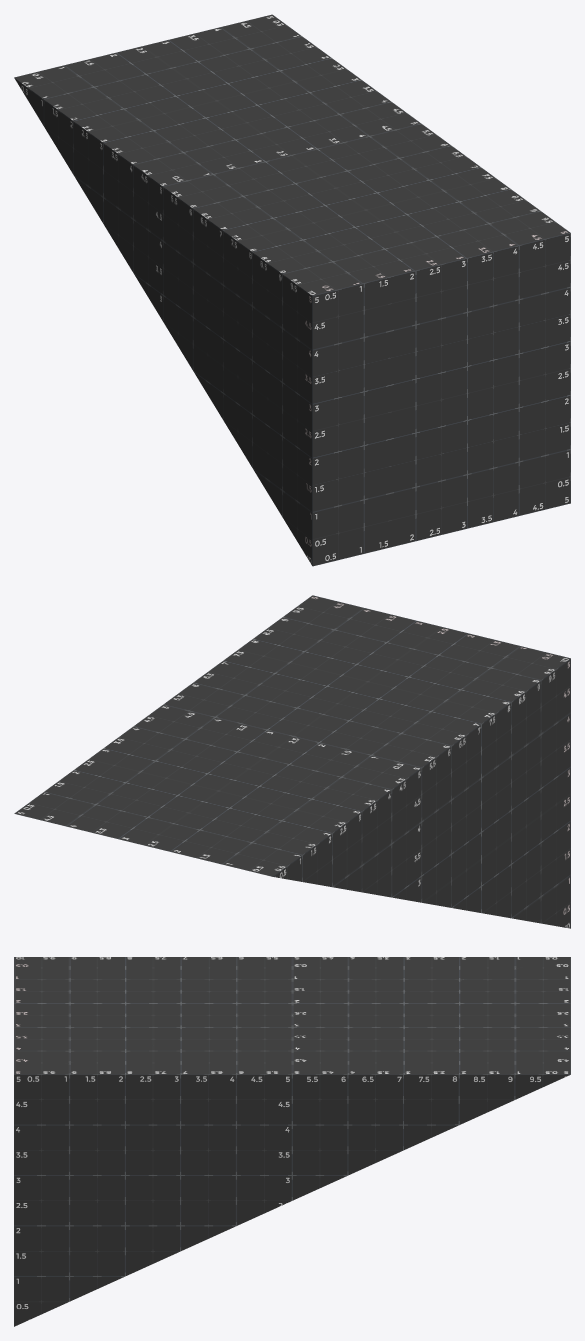
The model's file is WedgeCeiling_10.fbx.
3 renders of one model, top to bottom at view 1: azimuth 30°, elevation 25°; view 2: azimuth 150°, elevation 25°; view 3: azimuth 270°, elevation 25°, orthographic. The views are drawn at different scales.
Visible parts, largest first — view 1: WedgeCeiling_10; view 2: WedgeCeiling_10; view 3: WedgeCeiling_10.
Part boxes in pixels (x1,y1,x2,y2): WedgeCeiling_10: [14, 14, 570, 566]; WedgeCeiling_10: [14, 595, 570, 928]; WedgeCeiling_10: [14, 957, 570, 1326].
Bounding box in the file's own units: 5 × 5 × 10.01.
